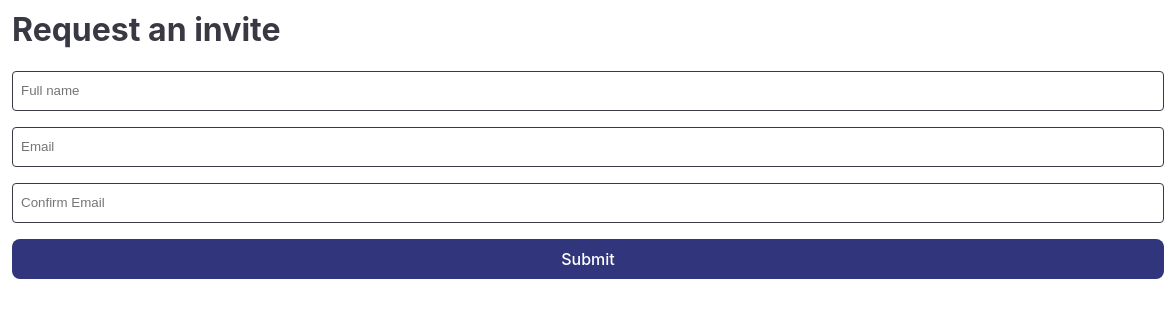
Test: InviteRequestModal › displays validation error if email confirmation does not match
Type "baptiste" into the field with test id "full-name-input" at (588, 91), box 12,71 -> 1164,111
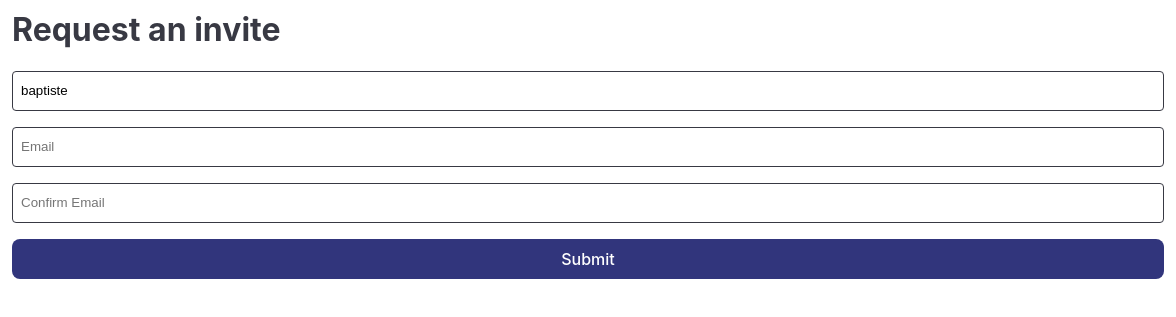
Type "bvi@test.com" into the field with test id "email-input" at (588, 147), box 12,127 -> 1164,167
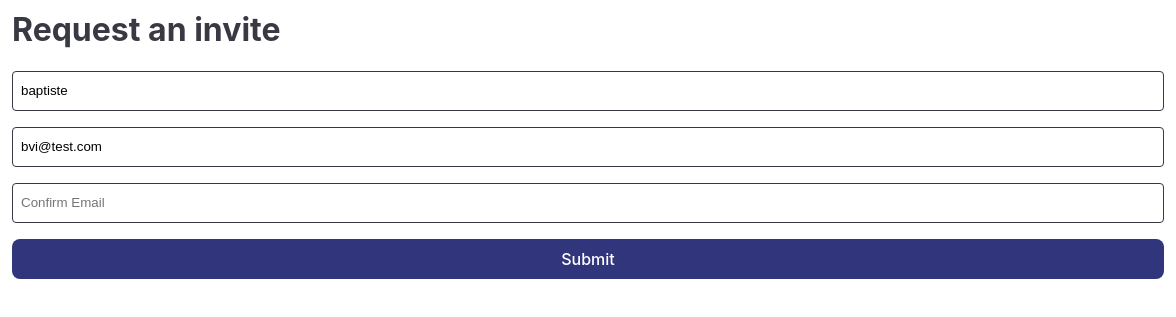
Type "bvia@test.com" into the field with test id "email-confirmation-input" at (588, 203), box 12,183 -> 1164,223
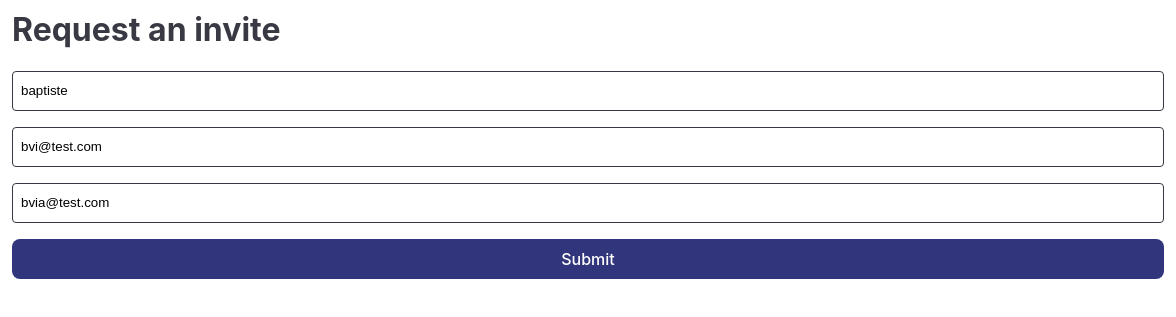
Click the button with test id "submit-request-button" at (588, 259), box 12,239 -> 1164,279
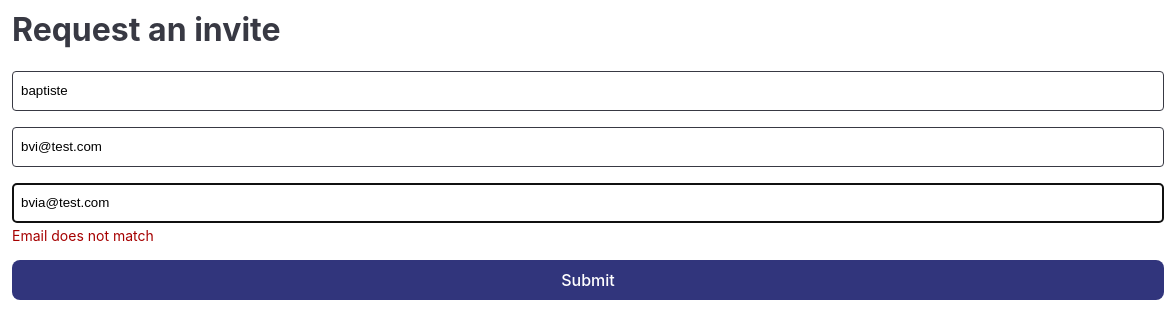
Now the text "Email does not match" is shown, box 12,227 -> 154,244
